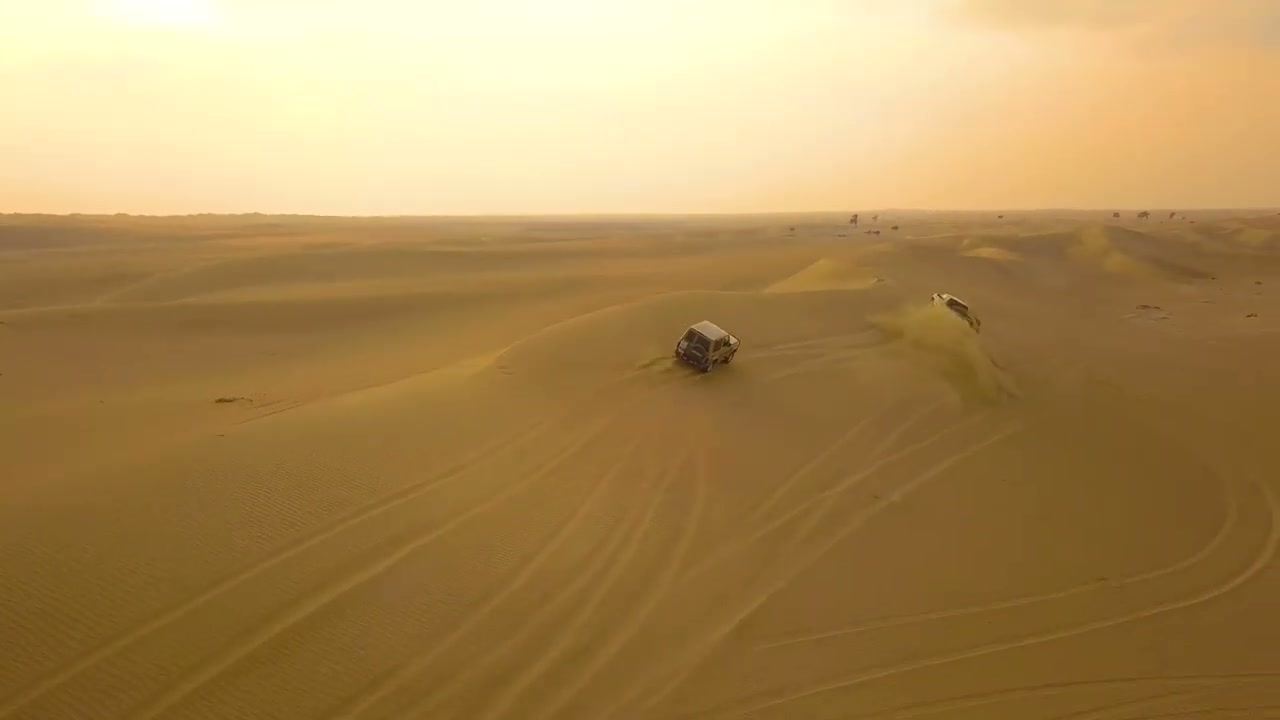vehicle_track: (0, 399, 590, 719), (131, 416, 613, 719), (724, 483, 1279, 715), (635, 422, 1021, 716), (334, 437, 642, 717), (757, 483, 1240, 649), (394, 472, 674, 719), (685, 404, 985, 578), (520, 449, 707, 719), (841, 672, 1279, 719)
